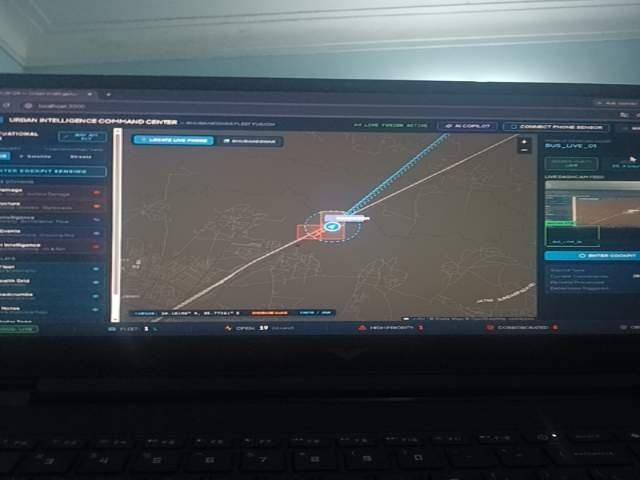pothole: (104, 403, 311, 480), (536, 403, 640, 480)
